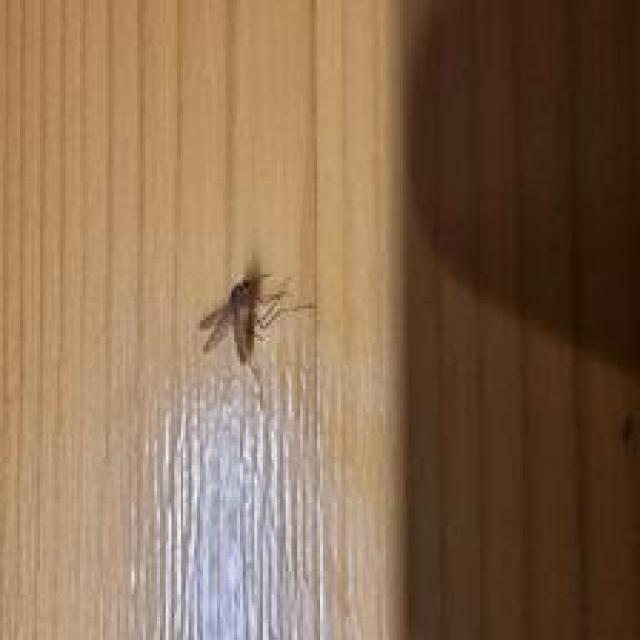Culex: (197, 264, 314, 370)
